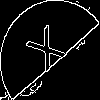X: (25, 25, 74, 81)
